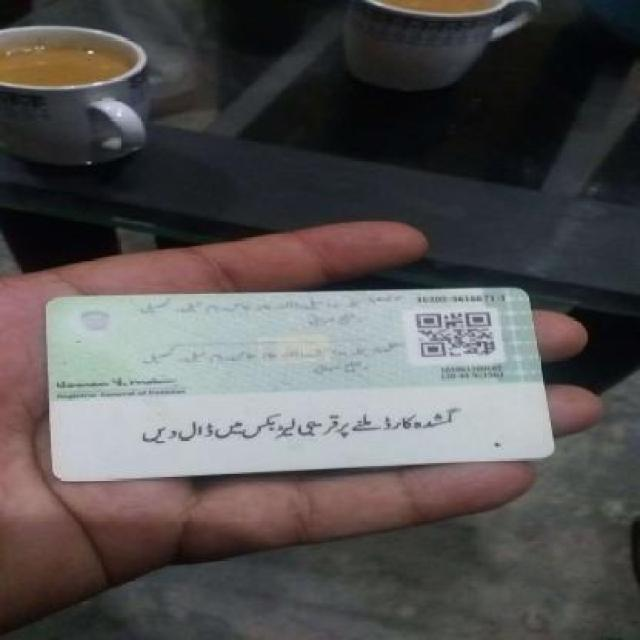Back: (34, 284, 557, 470)
